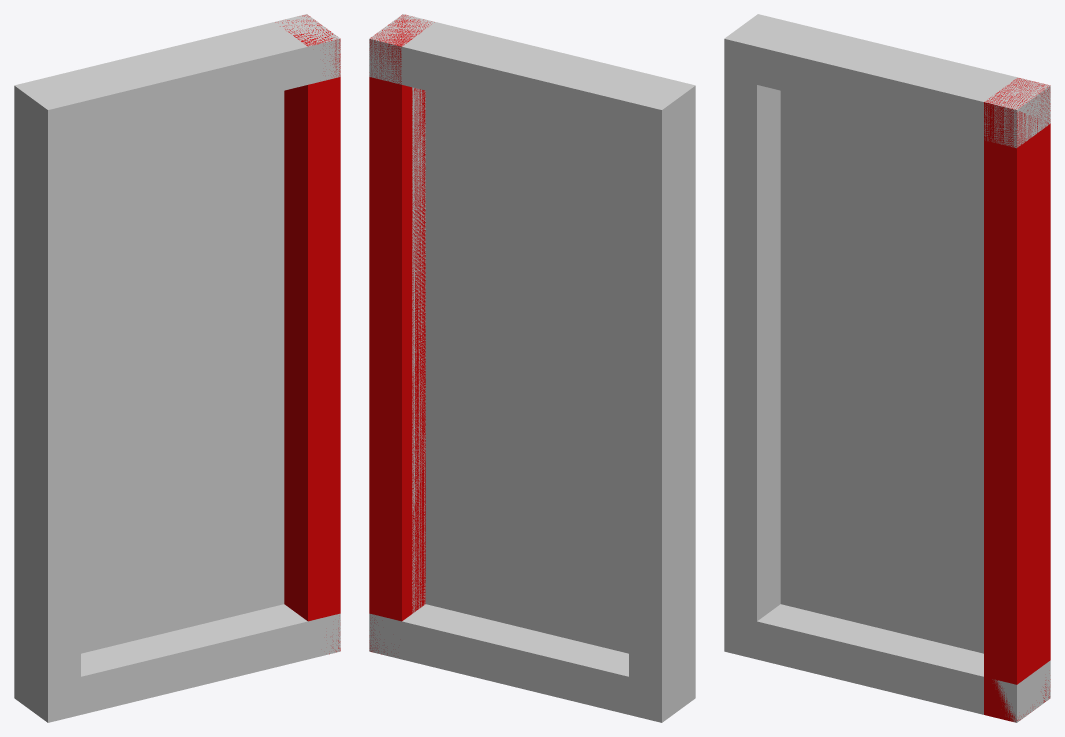
File: new_window_frame.glb
3 views of the same model, side by side, from view 1: azimuth 30°, elevation 25°; view 2: azimuth 150°, elevation 25°; view 3: azimuth 330°, elevation 25° (orthographic).
Parts seen in each view (by area): view 1: glass, left_frame, top_frame, right_frame, right_inside, bottom_frame, bottom_inside; view 2: glass, left_frame, top_frame, right_frame, right_inside, bottom_frame, bottom_inside; view 3: glass, right_frame, top_frame, left_frame, left_inside, bottom_frame, bottom_inside.
Part boxes in pixels (x1,y1,x2,y2): glass: [81, 91, 296, 666]; left_frame: [14, 78, 80, 722]; top_frame: [14, 14, 340, 148]; right_frame: [275, 15, 340, 654]; right_inside: [284, 85, 307, 620]; bottom_frame: [14, 613, 340, 722]; bottom_inside: [81, 614, 307, 676]; glass: [412, 87, 628, 666]; left_frame: [629, 78, 695, 721]; top_frame: [369, 14, 695, 148]; right_frame: [369, 14, 434, 654]; right_inside: [402, 85, 425, 620]; bottom_frame: [369, 613, 695, 722]; bottom_inside: [402, 614, 628, 676]; glass: [768, 91, 983, 666]; right_frame: [984, 78, 1050, 721]; top_frame: [724, 14, 1050, 148]; left_frame: [724, 14, 786, 654]; left_inside: [757, 85, 780, 620]; bottom_frame: [724, 613, 1050, 722]; bottom_inside: [757, 612, 983, 676].
Size of the model in its own units: 0.5 by 1 by 0.1.
